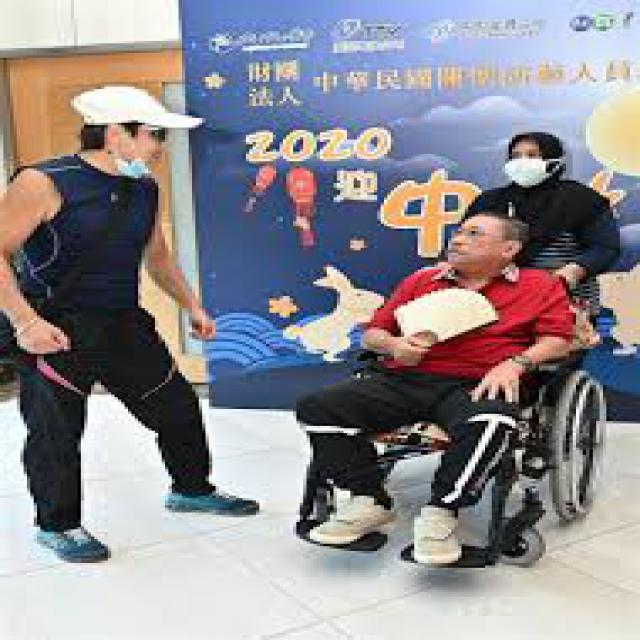wheelchairs: (279, 282, 616, 570)
